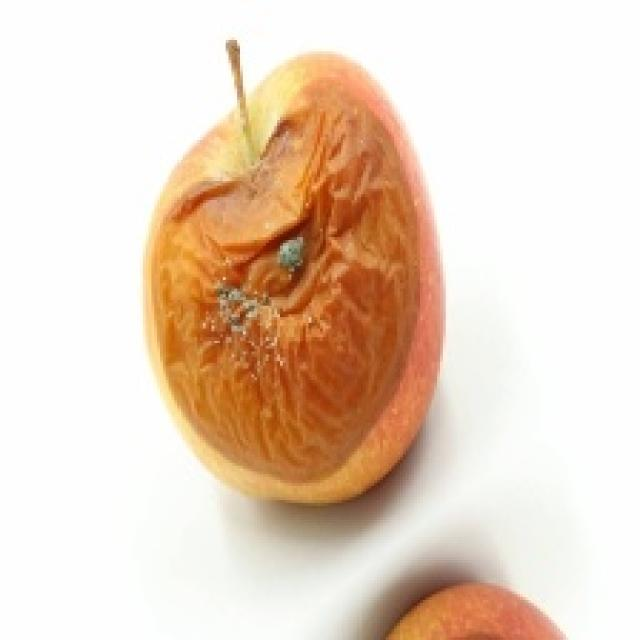rotten_apple: (152, 56, 444, 502)
